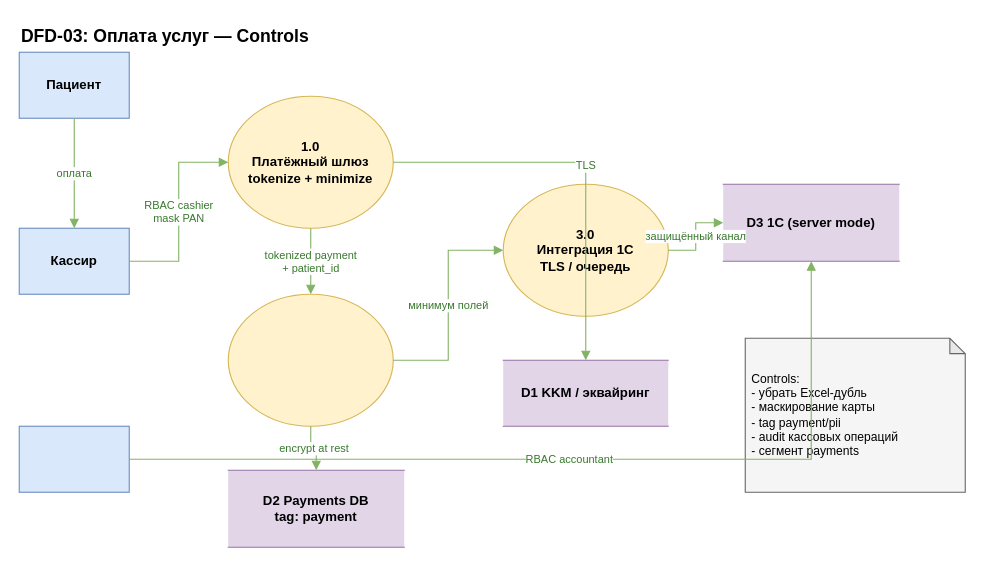
Image size: 985x567. Some labels were removed from this diagram. Each missing label, with the centre of its shape:
"2.0 Billing service без Excel-дубля" belongs at point (310, 359).
"Бухгалтер" belongs at point (73, 458).
